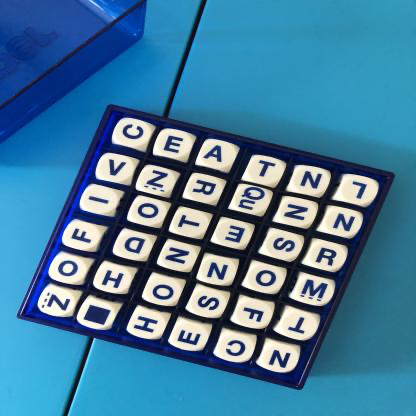a: (200, 142, 237, 170)
c: (114, 120, 154, 149), (216, 334, 254, 363)
d: (116, 233, 154, 260)
e: (215, 221, 253, 249), (171, 323, 210, 350), (158, 131, 195, 159)
f: (235, 301, 273, 330), (65, 223, 103, 251)
h: (130, 311, 167, 340), (96, 266, 133, 293)
i: (81, 187, 121, 216)
l: (341, 177, 379, 205)
m: (298, 277, 334, 306)
n: (293, 167, 330, 196), (279, 199, 317, 227), (160, 243, 198, 271), (324, 209, 363, 236), (200, 258, 237, 286), (263, 346, 301, 373)
o: (144, 278, 184, 307), (130, 198, 169, 227), (51, 257, 89, 284), (248, 267, 285, 294)
qu: (232, 186, 270, 214)
r: (308, 243, 346, 272), (187, 175, 224, 203)
s: (190, 289, 227, 318), (266, 232, 303, 260)
t: (171, 209, 210, 238), (280, 312, 318, 340), (247, 157, 283, 185)
v: (99, 156, 136, 183)
wild: (77, 300, 116, 330)
z: (38, 287, 80, 317), (139, 168, 176, 196)
